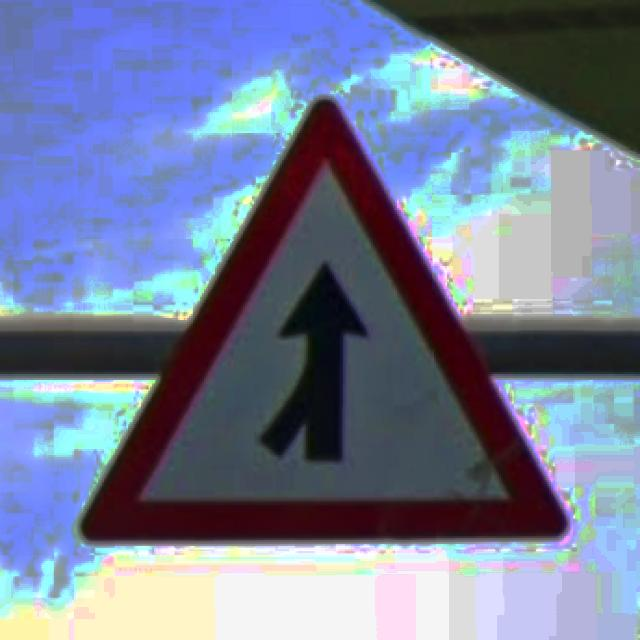leftmerge: (78, 94, 569, 544)
